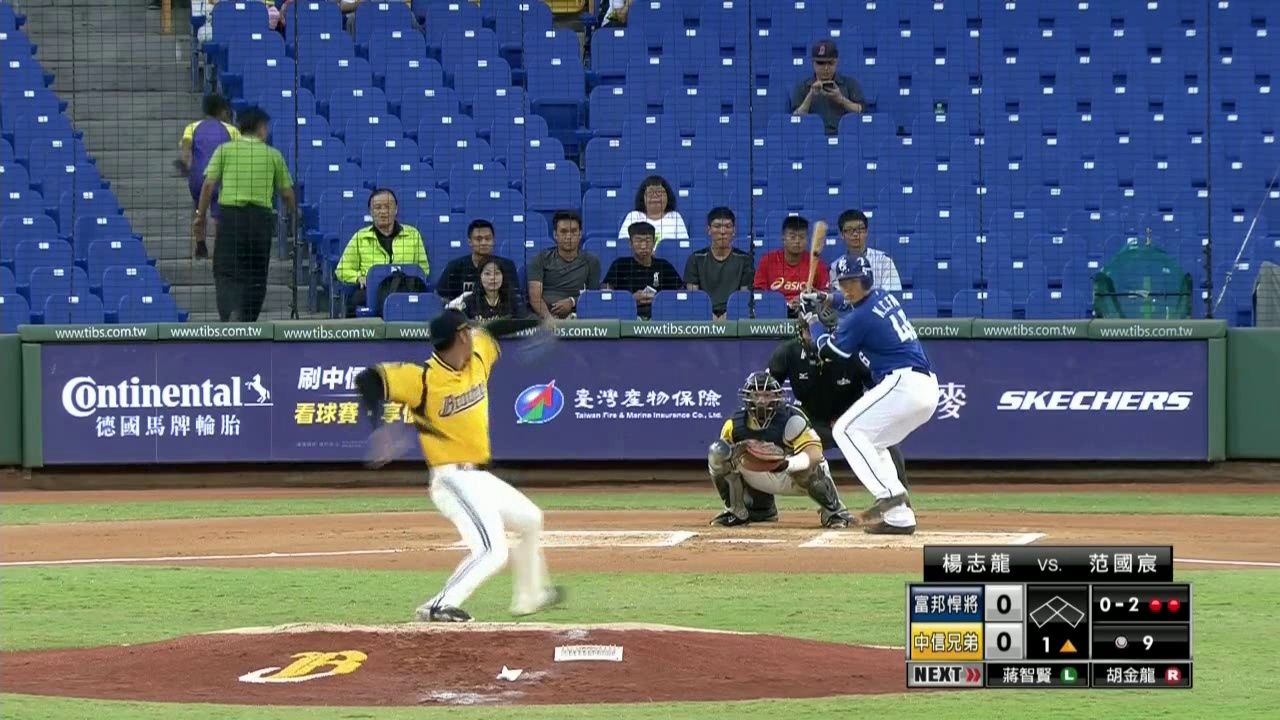base: (1029, 591, 1087, 629)
bat: (804, 220, 831, 293)
out: (1147, 596, 1182, 613)
score1: (985, 585, 1021, 620)
score2: (985, 622, 1023, 658)
session: (1037, 633, 1079, 654)
strikeball: (1096, 594, 1141, 612)
total: (1109, 629, 1159, 652)
